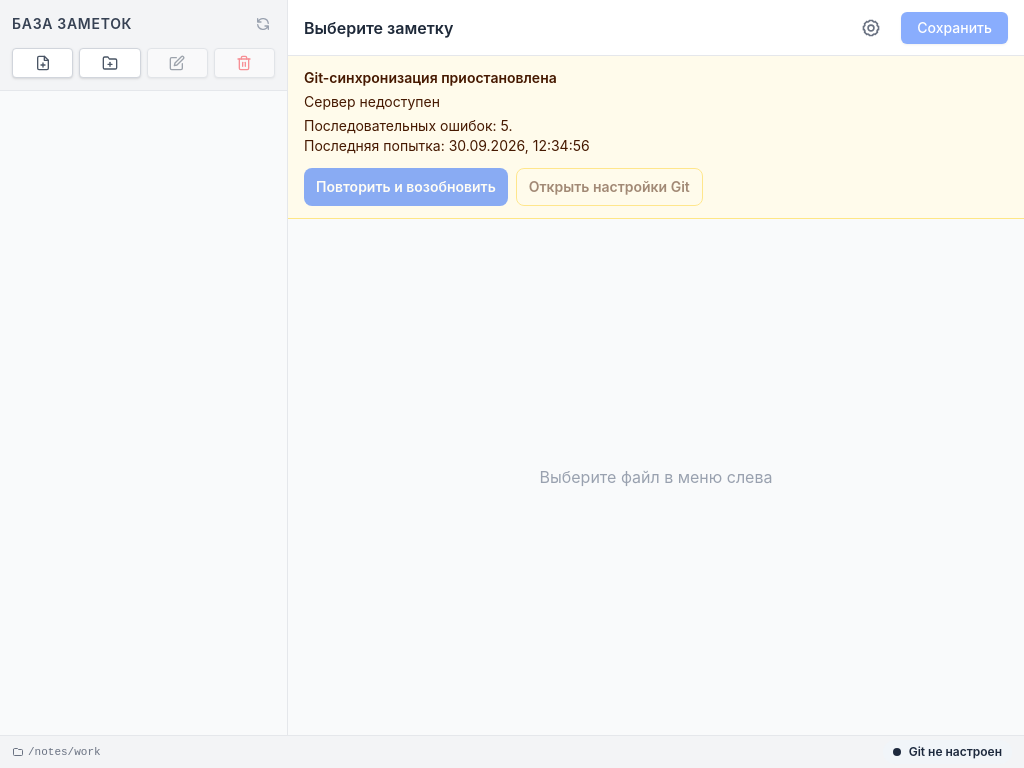
it: NotesWorkspace › shares busy state across indicator and recovery: {"gitSyncBusy":true}
Expected: the button "Повторить и возобновить" is disabled, [304,168,508,206]
Expected: the button "Открыть настройки Git" is disabled, [516,168,703,206]
Step 1. Click the button with aria-label "Открыть детали Git:" → (947, 752), box [883,740,1012,764]
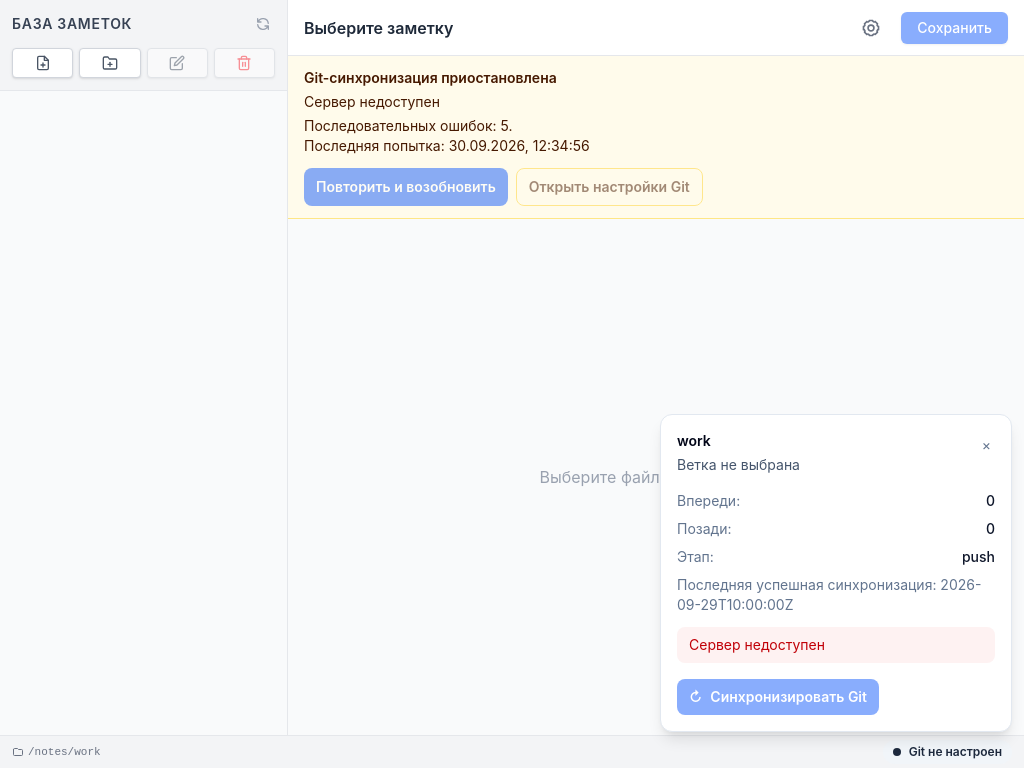
Now the button "↻ Синхронизировать Git" is disabled, box [677,679,879,715]
